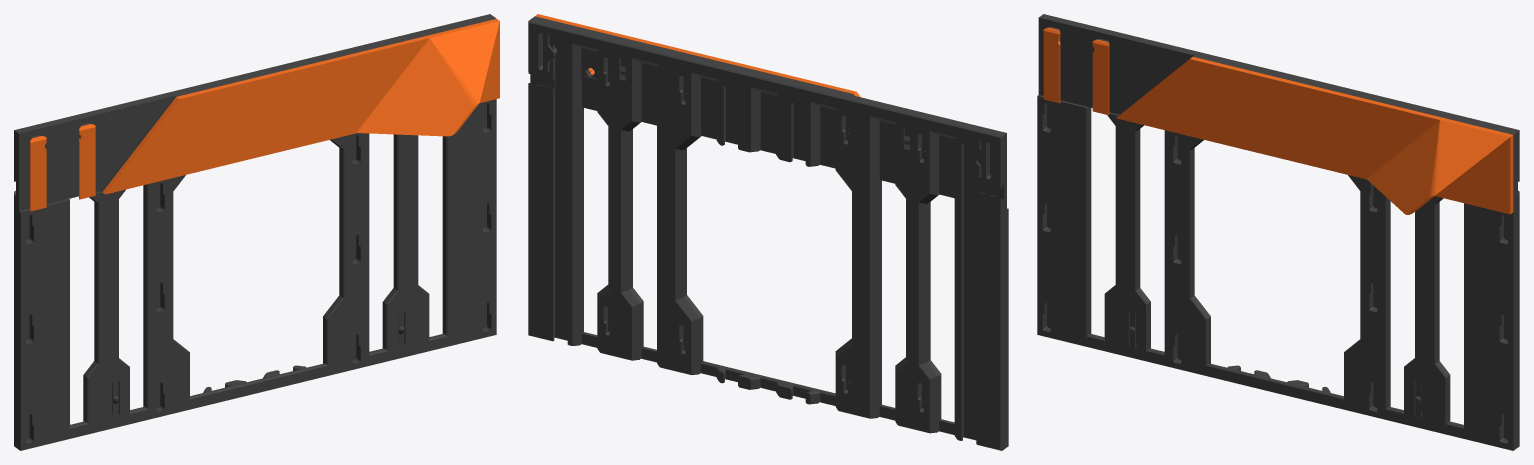
File: Faceplate_EdgeLabel_2W-2H.lib.glb
The picture shows the model from 3 angles, left to right: view 1: azimuth 30°, elevation 25°; view 2: azimuth 150°, elevation 25°; view 3: azimuth 330°, elevation 25°; orthographic projection.
Parts seen in each view (by area): view 1: Faceplate_EdgeLabel_2W-2H; view 2: Faceplate_EdgeLabel_2W-2H; view 3: Faceplate_EdgeLabel_2W-2H.
Boxes of the visible parts, x1=… form: Faceplate_EdgeLabel_2W-2H: x1=14, y1=14, x2=499, y2=450; Faceplate_EdgeLabel_2W-2H: x1=528, y1=14, x2=1008, y2=450; Faceplate_EdgeLabel_2W-2H: x1=1037, y1=14, x2=1519, y2=450.
Size of the model in its own units: 175 by 111 by 24.1.
